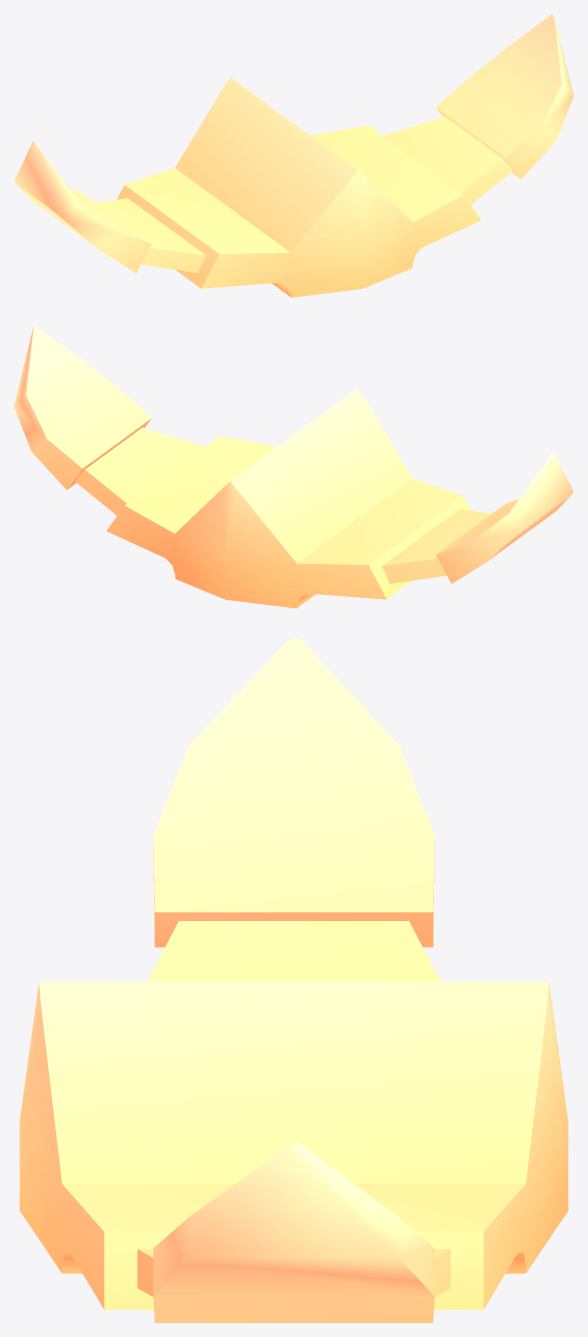
The model's file is wood_guard_069_004.glb.
The picture shows the model from 3 angles, top to bottom: view 1: azimuth 30°, elevation 25°; view 2: azimuth 150°, elevation 25°; view 3: azimuth 270°, elevation 25°; orthographic projection. The views are drawn at different scales.
Visible parts, largest first — view 1: wood_guard_069.004; view 2: wood_guard_069.004; view 3: wood_guard_069.004.
Part boxes in pixels (box(x1,y1,x2,y2)): wood_guard_069.004: box(14, 14, 573, 297); wood_guard_069.004: box(14, 326, 573, 608); wood_guard_069.004: box(19, 637, 568, 1322).
Size of the model in its own units: 5.66 by 1.69 by 2.59.
1 material, 1 textured.
